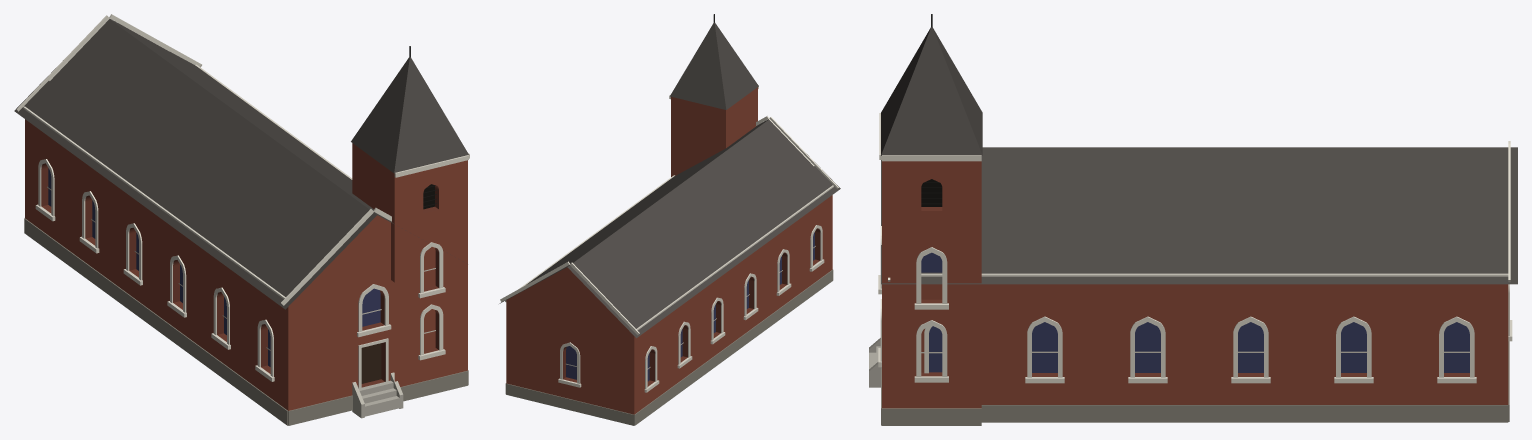
Rendered from ch-first-presbyterian-argenta-1961.glb.
3 renders of one model, left to right at view 1: azimuth 30°, elevation 25°; view 2: azimuth 150°, elevation 25°; view 3: azimuth 270°, elevation 25°, orthographic. The views are drawn at different scales.
Parts seen in each view (by area): view 1: ch_brick, ch_roof, ch_trim, ch_roof2, ch_base, ch_brick2, ch_conc, ch_stain, ch_door; view 2: ch_brick, ch_roof, ch_trim, ch_roof2, ch_base, ch_brick2, ch_stain; view 3: ch_brick, ch_roof, ch_base, ch_trim, ch_roof2, ch_stain, ch_brick2.
Part boxes in pixels (<box>): ch_brick: <box>25,119,467,410</box>; ch_roof: <box>14,19,463,309</box>; ch_trim: <box>16,14,469,388</box>; ch_roof2: <box>351,57,468,173</box>; ch_base: <box>24,218,468,425</box>; ch_brick2: <box>41,163,438,387</box>; ch_conc: <box>352,372,403,418</box>; ch_stain: <box>48,168,380,366</box>; ch_door: <box>361,343,381,383</box>; ch_brick: <box>506,87,832,414</box>; ch_roof: <box>499,119,840,338</box>; ch_trim: <box>500,85,838,392</box>; ch_roof2: <box>670,22,758,109</box>; ch_base: <box>505,269,833,425</box>; ch_brick2: <box>563,228,820,386</box>; ch_stain: <box>566,232,814,381</box>; ch_brick: <box>882,161,1508,408</box>; ch_roof: <box>881,147,1517,284</box>; ch_base: <box>881,341,1509,425</box>; ch_trim: <box>878,113,1512,383</box>; ch_roof2: <box>881,27,982,155</box>; ch_stain: <box>921,252,1469,372</box>; ch_brick2: <box>921,207,1469,376</box>.
Bounding box in the file's own units: 10.67 × 18.3 × 27.42.
